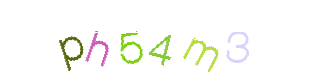3: (152, 0, 232, 80)
4: (114, 0, 194, 80)
5: (96, 0, 176, 80)
H: (57, 0, 137, 80)
M: (116, 0, 196, 80)
P: (31, 0, 111, 80)
